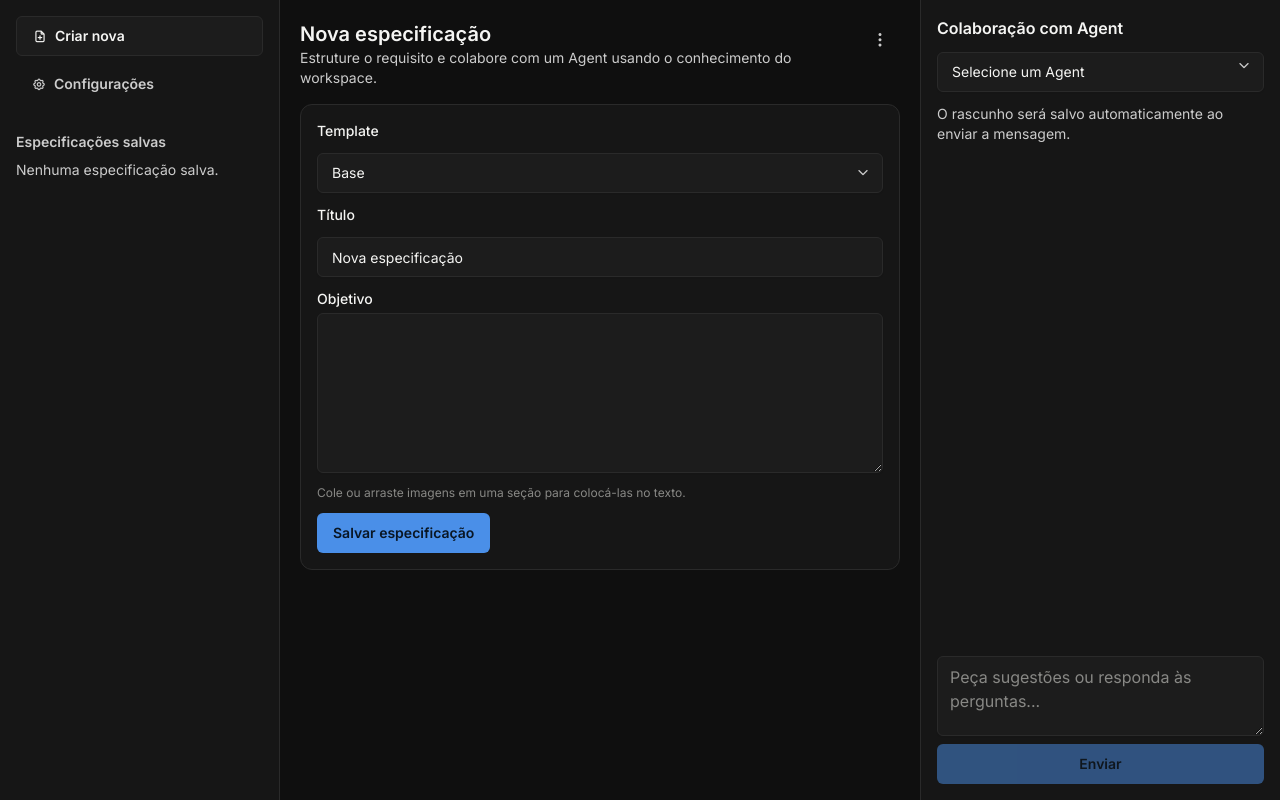
it: SpecView template deletion › falls back to the remaining template after deleting one that is not used by the draft
Expected: the heading "Nova especificação" is shown, [300,22,491,46]
Step 1. Click the button "Configurações" → (140, 84), box [16,64,263,104]
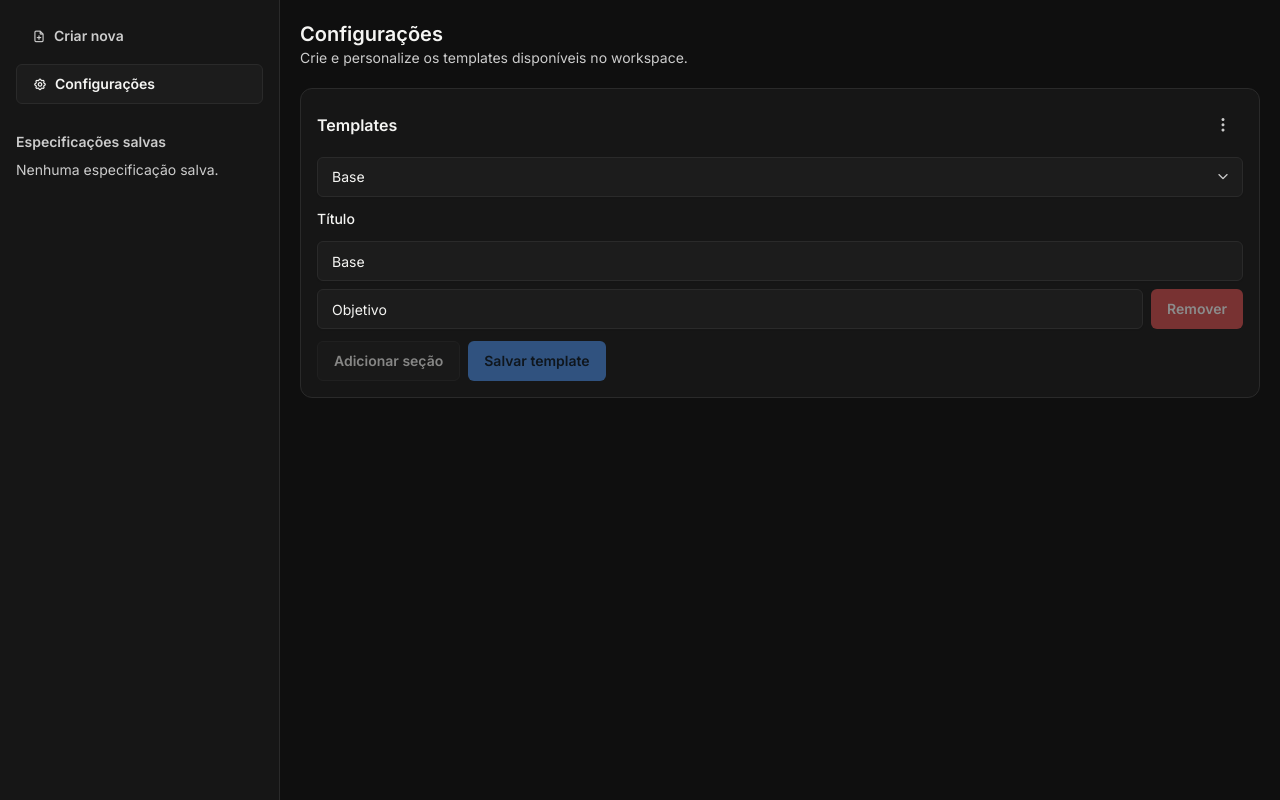
Step 2. Select "Release" in the dropdown named "Template para editar" → (780, 177), box [317,157,1243,197]
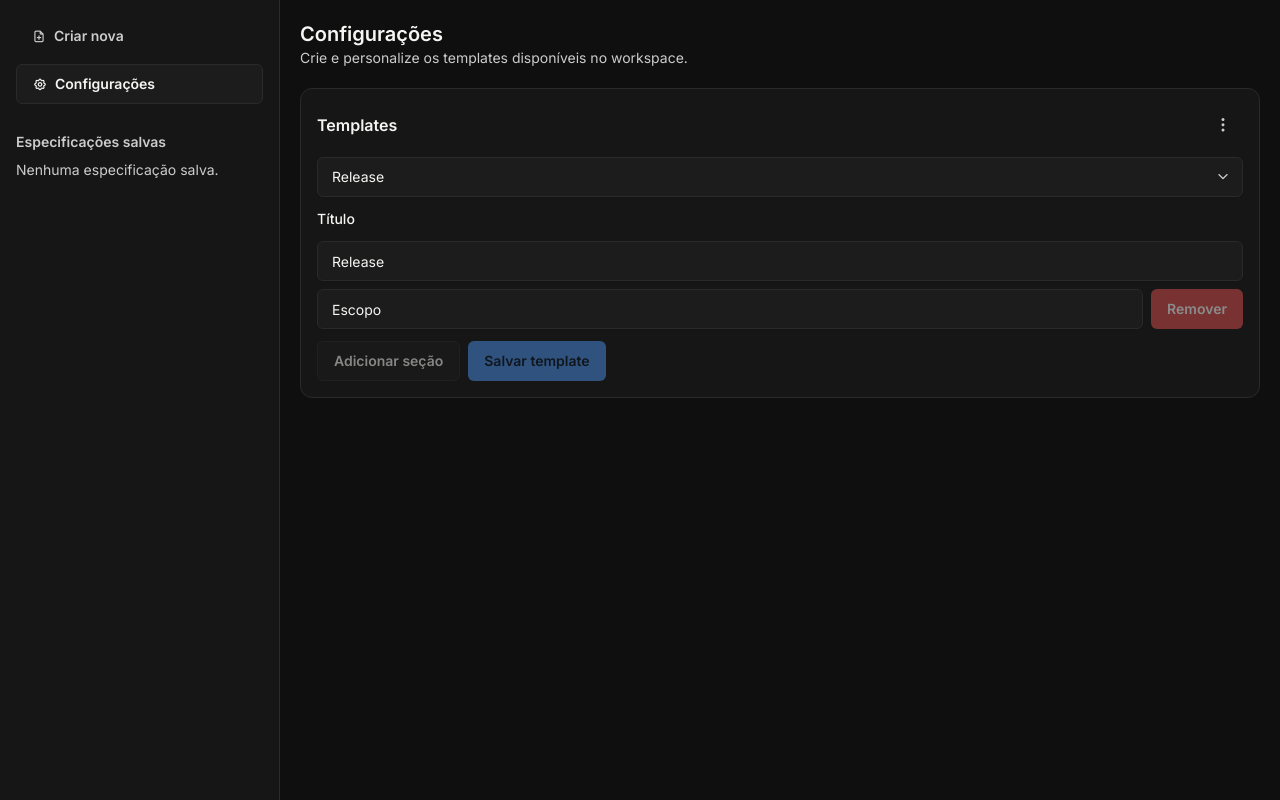
Expected: the field named "Nome do template" holds "Release", [317,241,1243,281]
Step 3. Click the button named "Ações" → (1223, 125), box [1203,105,1243,145]
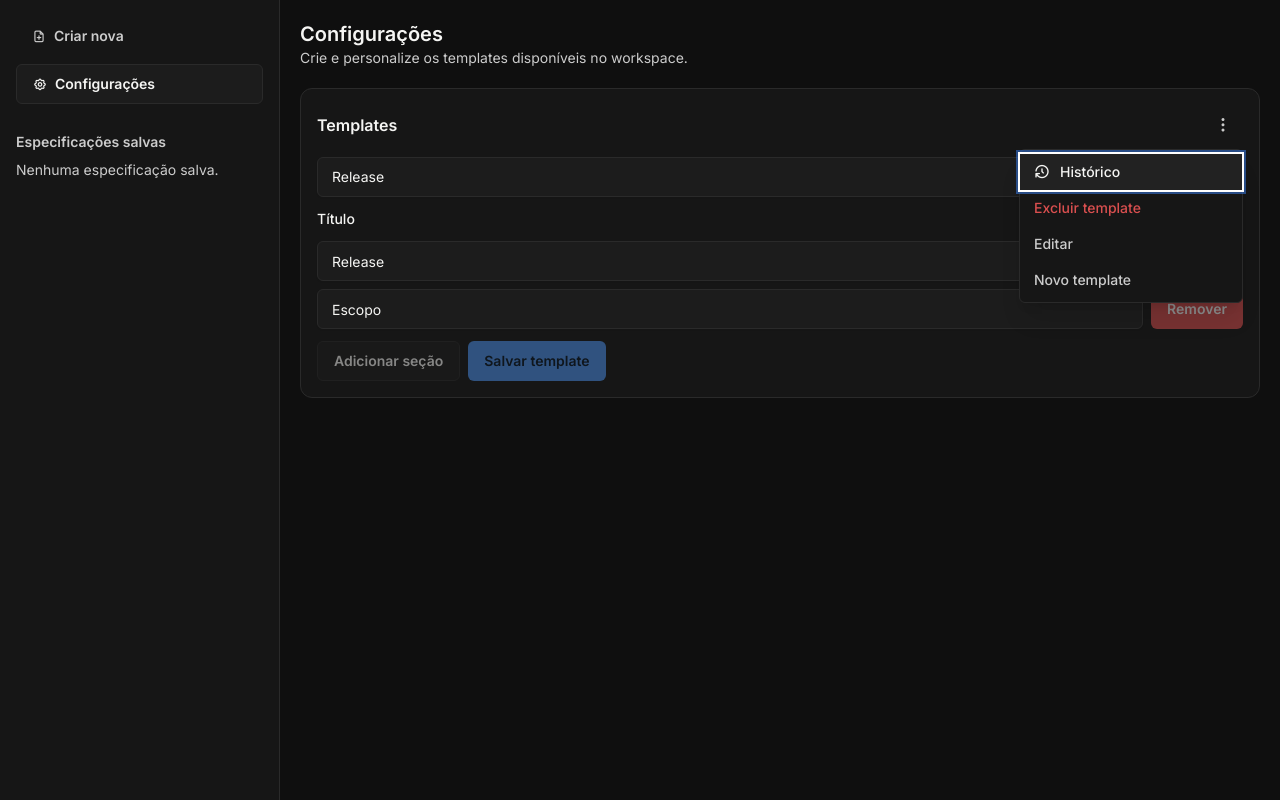
Step 4. Click the button "Excluir template" → (1131, 208), box [1020,190,1242,226]
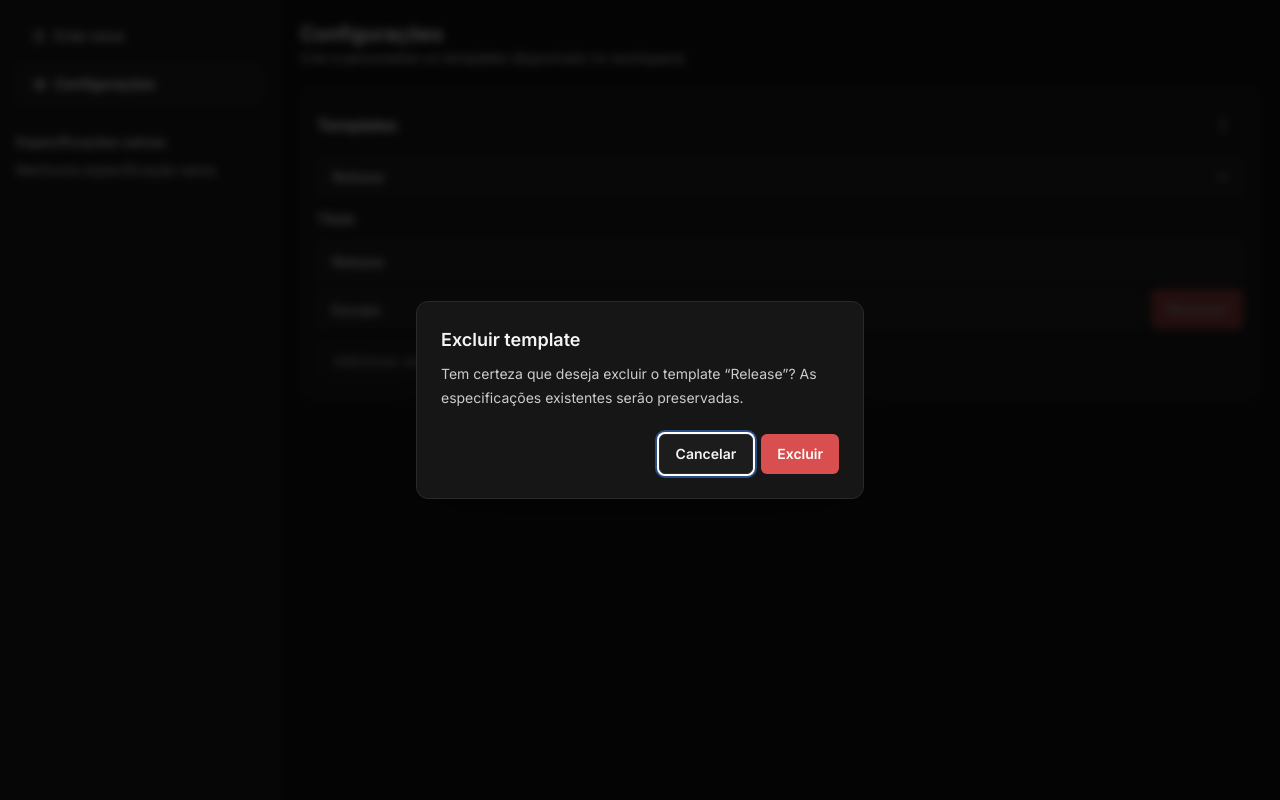
Expected: the dialog shows "Release", [441,365,816,406]
Step 5. Click the button "Excluir" → (800, 454), box [761,434,839,474]
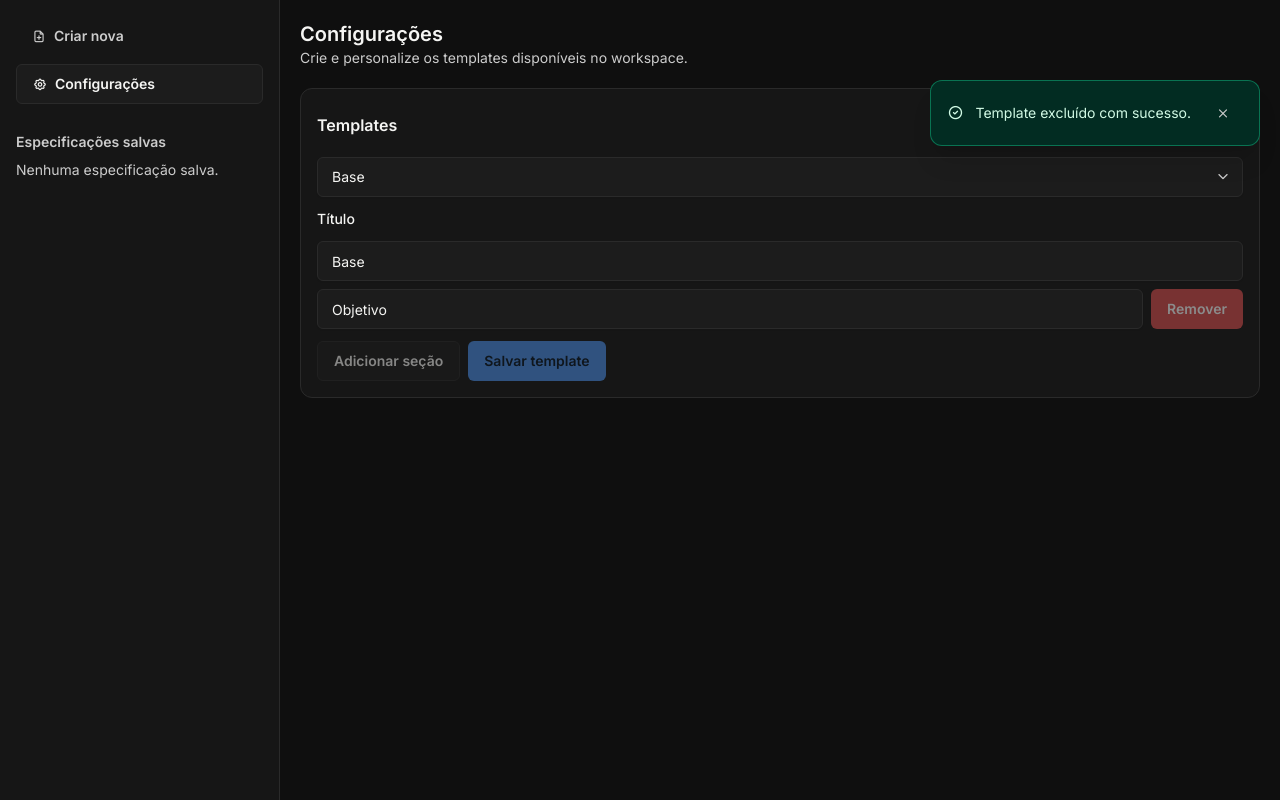
Expected: the text "Template excluído com sucesso." is shown, [976,103,1191,123]
Expected: the field named "Nome do template" holds "Base", [317,241,1243,281]
